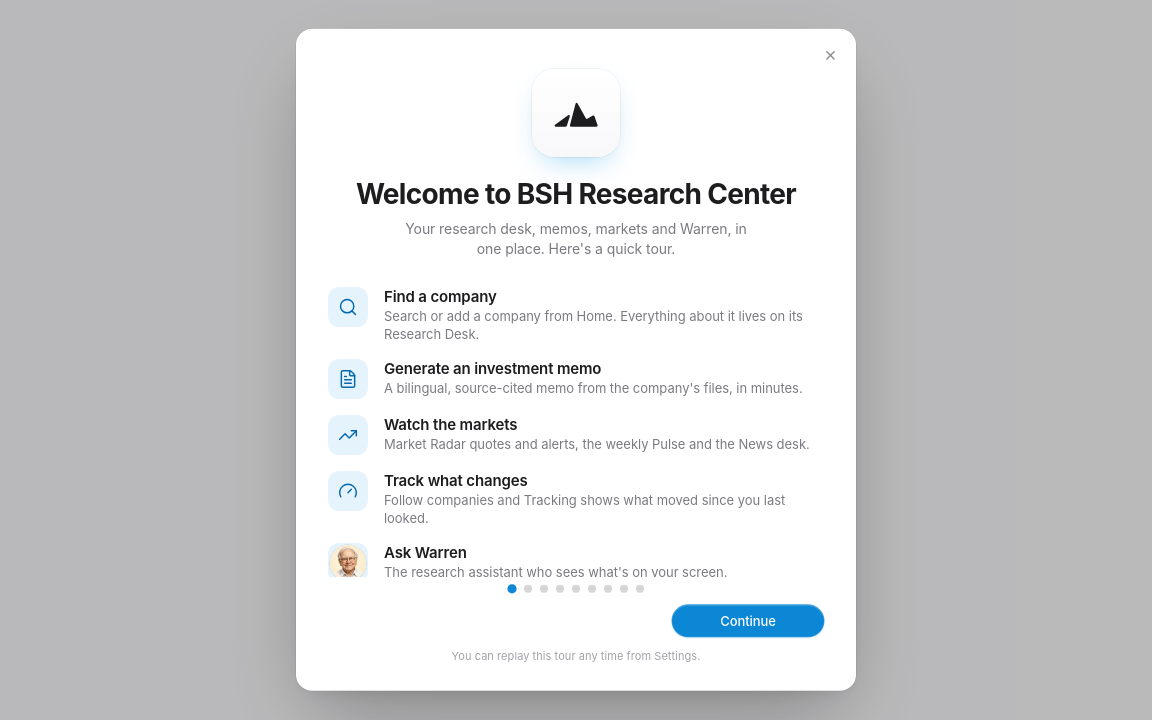
WelcomeTour › centres the callout when the step's control isn't on screen
Step 1. Click the button with test id "welcome-tour-next" → (748, 621), box left=672, top=605, right=824, bottom=637
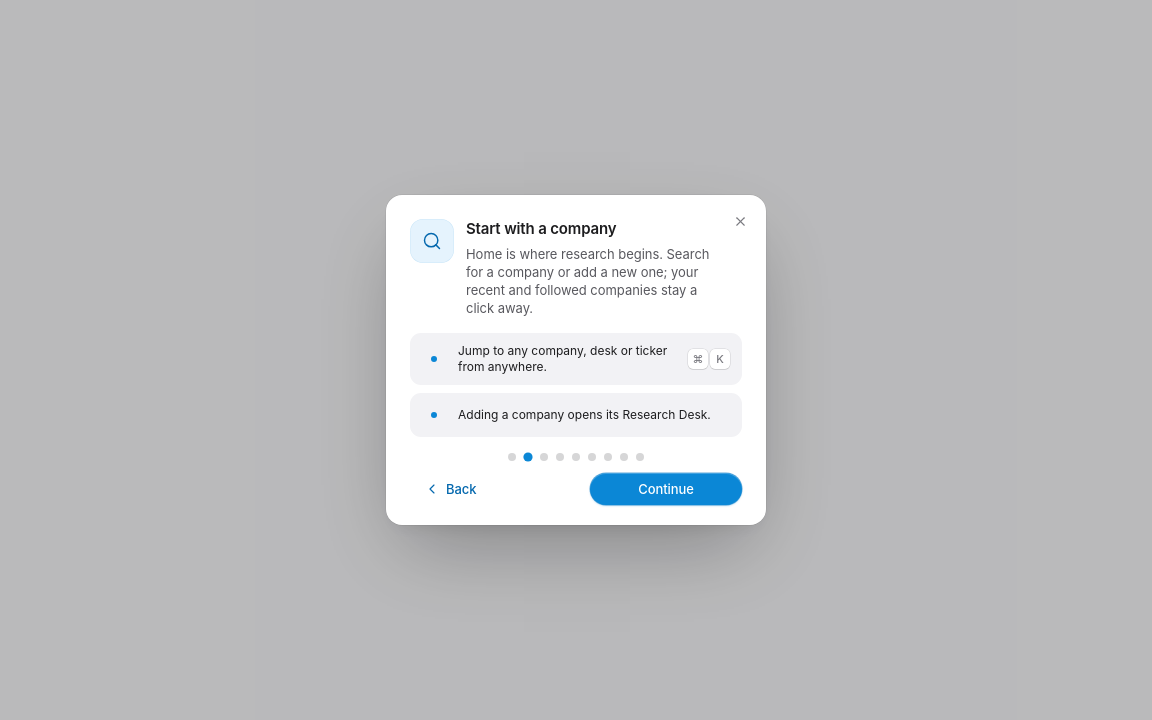
expect the heading with test id "welcome-tour-title" reads "Start with a company": met, box left=466, top=219, right=616, bottom=238
